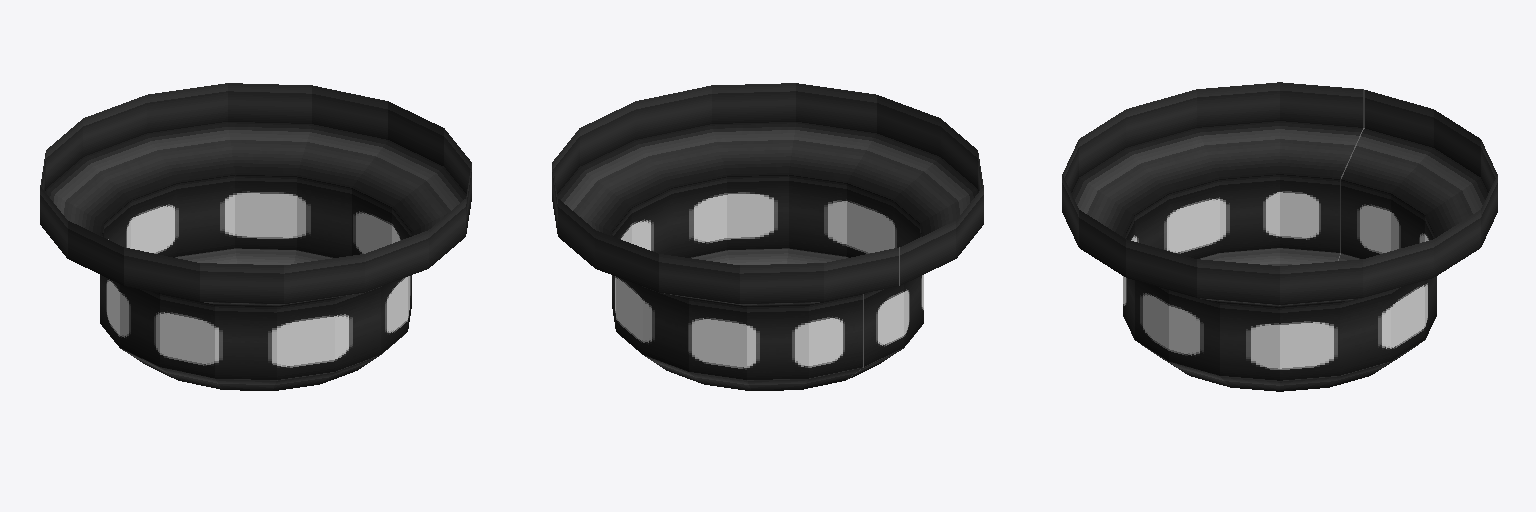
3 renders of one model, left to right at view 1: azimuth 30°, elevation 25°; view 2: azimuth 150°, elevation 25°; view 3: azimuth 270°, elevation 25°, orthographic.
Parts seen in each view (by area): view 1: Cylinder; view 2: Cylinder; view 3: Cylinder.
Boxes of the visible parts, <box> form: Cylinder: <box>40,83,471,390</box>; Cylinder: <box>552,83,983,390</box>; Cylinder: <box>1062,82,1497,391</box>.
Bounding box in the file's own units: 2 × 0.8295 × 2.
Materials: 1 (1 with a texture image).